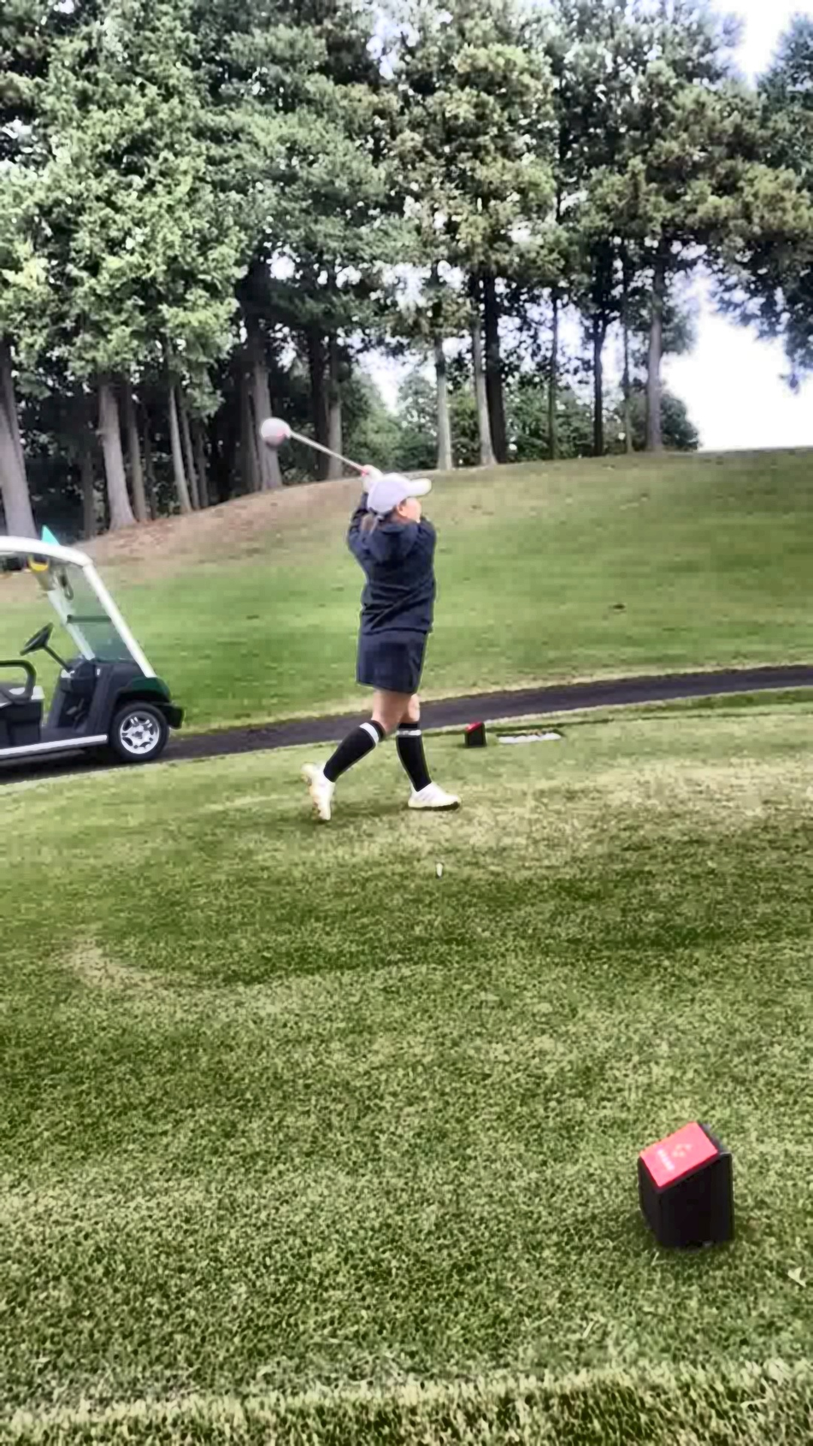clubhead: (210, 371, 370, 528)
